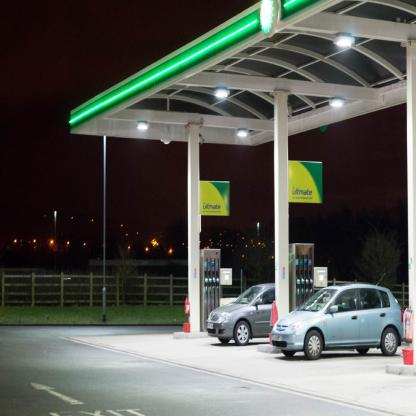Car: (272, 274, 406, 361), (207, 284, 276, 347)
